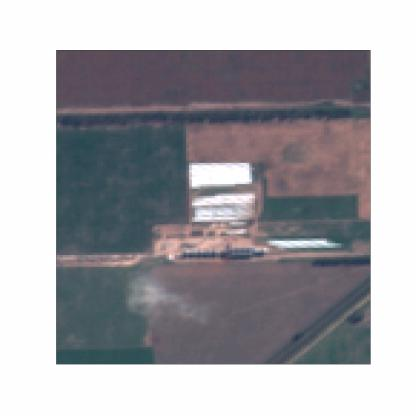silobolsa: (193, 204, 257, 222), (188, 161, 254, 172), (190, 194, 260, 204), (262, 239, 344, 246), (188, 174, 253, 182)
